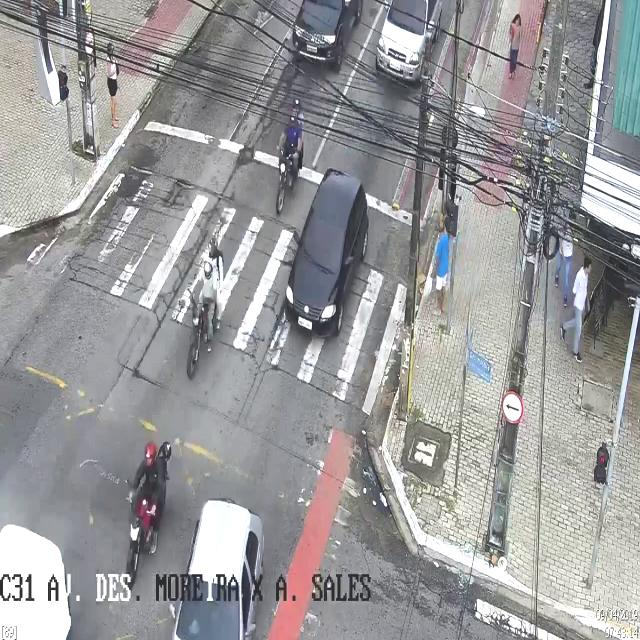Car: (287, 167, 369, 336), (170, 495, 264, 639), (0, 508, 95, 640), (291, 1, 365, 75), (374, 0, 441, 76)
Motorcycle: (126, 441, 170, 589), (187, 237, 223, 381), (276, 98, 304, 213)
